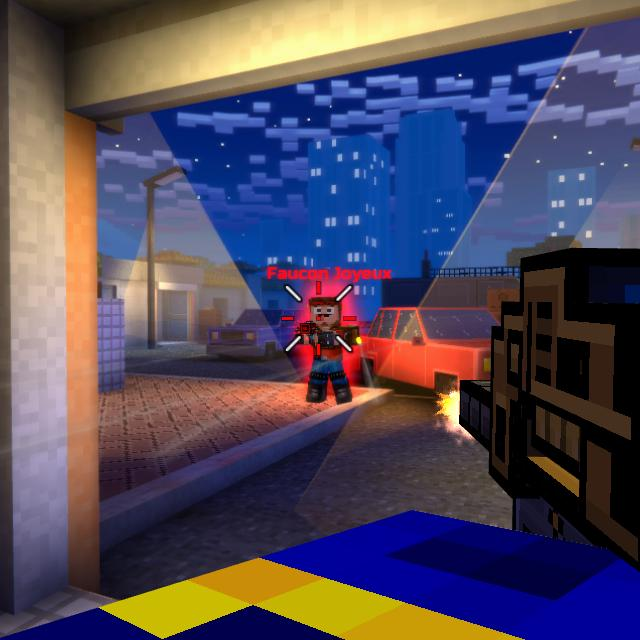Enemy: (298, 295, 364, 405)
